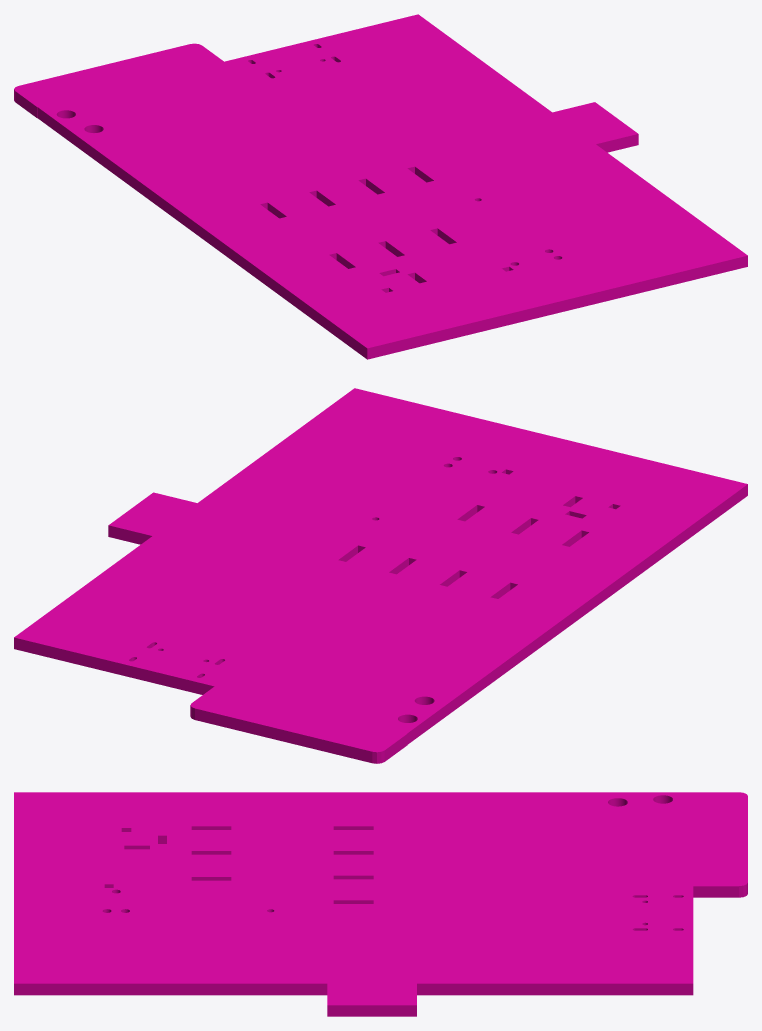
Rendered from board_v24_slab.glb.
3 views of the same model, one above another, from view 1: azimuth 30°, elevation 25°; view 2: azimuth 150°, elevation 25°; view 3: azimuth 270°, elevation 25° (orthographic). The views are drawn at different scales.
Parts seen in each view (by area): view 1: =>[0:1:1:2]; view 2: =>[0:1:1:2]; view 3: =>[0:1:1:2].
Boxes of the visible parts, box(x1,y1,x2,y2) form: =>[0:1:1:2]: box(14, 14, 747, 359); =>[0:1:1:2]: box(14, 388, 747, 763); =>[0:1:1:2]: box(14, 792, 747, 1016).
Bounding box in the file's own units: 0.0556 × 0.00141 × 0.081.
